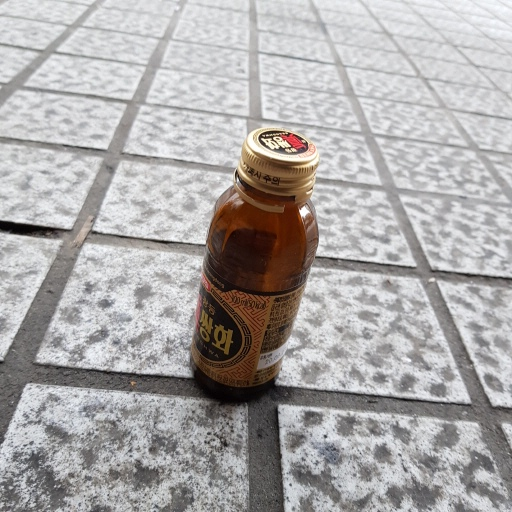Glass_3: (189, 126, 322, 401)
